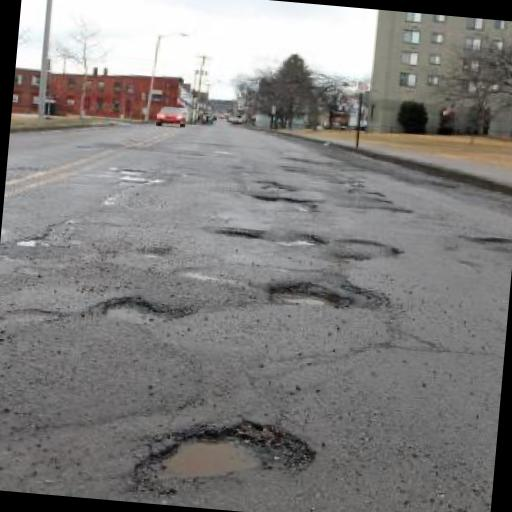pothole: (127, 407, 320, 495), (96, 290, 196, 330), (262, 274, 355, 312), (270, 228, 326, 250), (247, 189, 313, 206), (210, 222, 267, 240)
